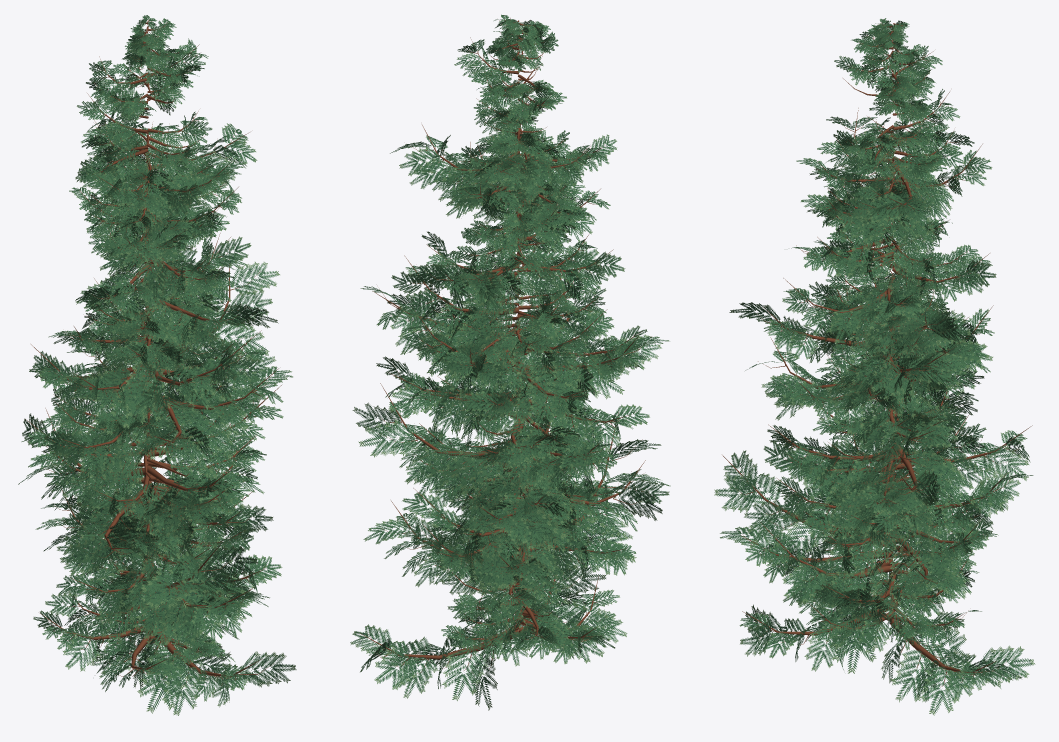
File: forest-redwood-lod1.glb
The picture shows the model from 3 angles, left to right: view 1: azimuth 30°, elevation 25°; view 2: azimuth 150°, elevation 25°; view 3: azimuth 270°, elevation 25°; orthographic projection. The views are drawn at different scales.
Parts seen in each view (by area): view 1: redwood-crown; view 2: redwood-crown; view 3: redwood-crown.
Part boxes in pixels (box(x1,y1,x2,y2)): redwood-crown: box(18, 15, 296, 715); redwood-crown: box(350, 14, 670, 710); redwood-crown: box(714, 18, 1035, 715).
Bounding box in the file's own units: 20.74 × 46.99 × 21.63.
4 materials, 3 textured.
